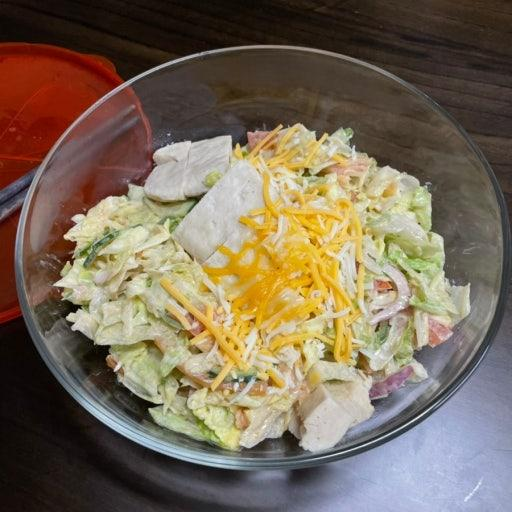Lunch Box: (0, 43, 507, 467)
